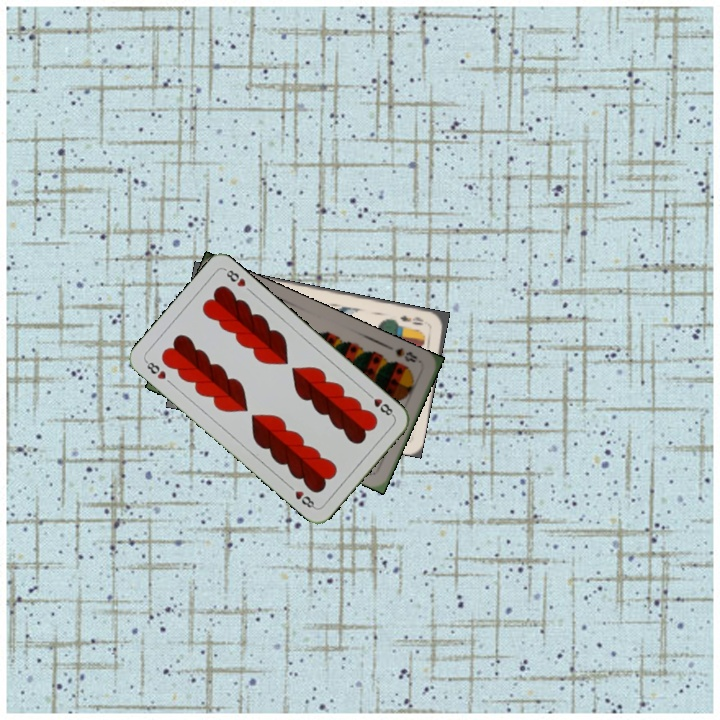EO: (396, 311, 426, 328)
H8: (363, 389, 397, 419), (141, 356, 169, 382)
S8: (391, 343, 420, 365)
